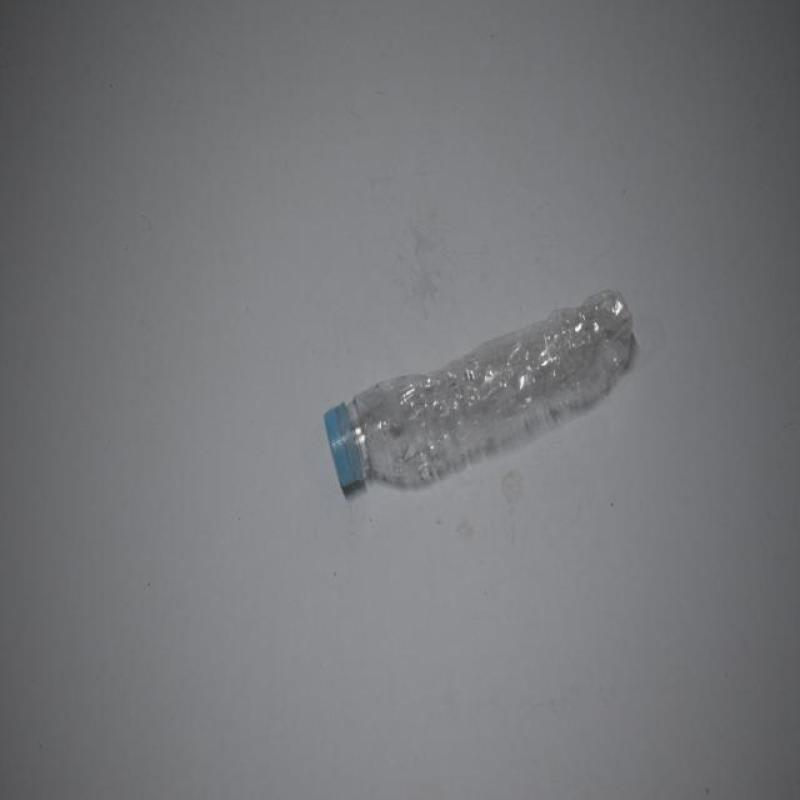botella: (325, 288, 635, 496)
